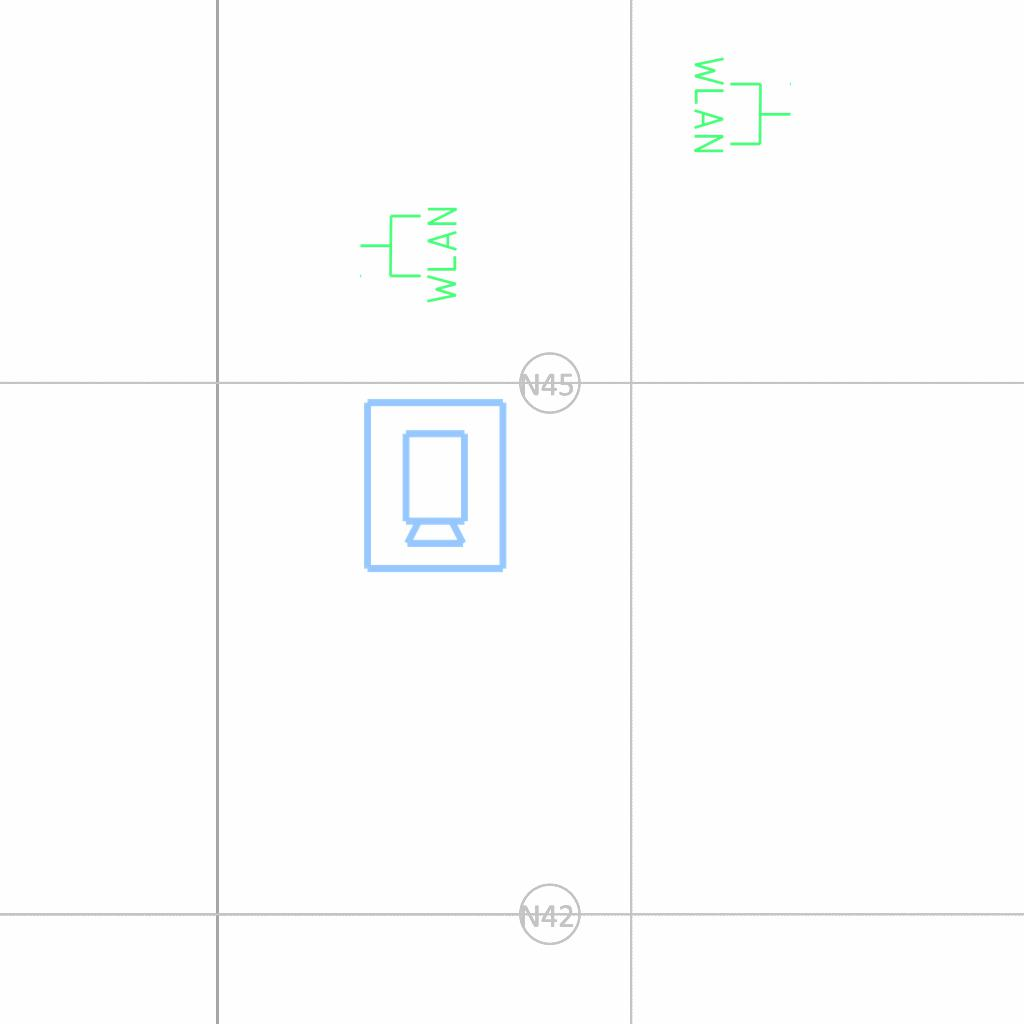KFO_Kamera_mit_Festobjektiv: (357, 394, 511, 576)
WLAN: (690, 52, 794, 157), (357, 203, 461, 308)
